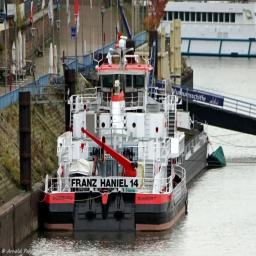tugboat: (42, 35, 192, 247)
